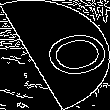O_SW: (11, 25, 99, 85)
